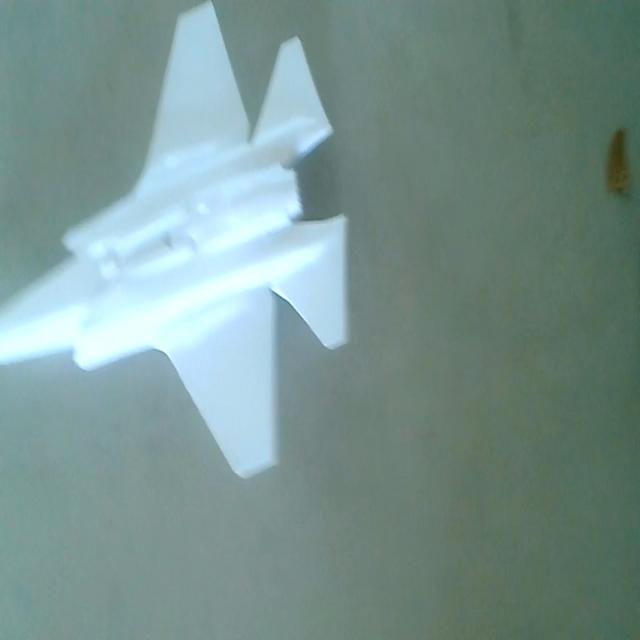Jet: (0, 0, 354, 488)
